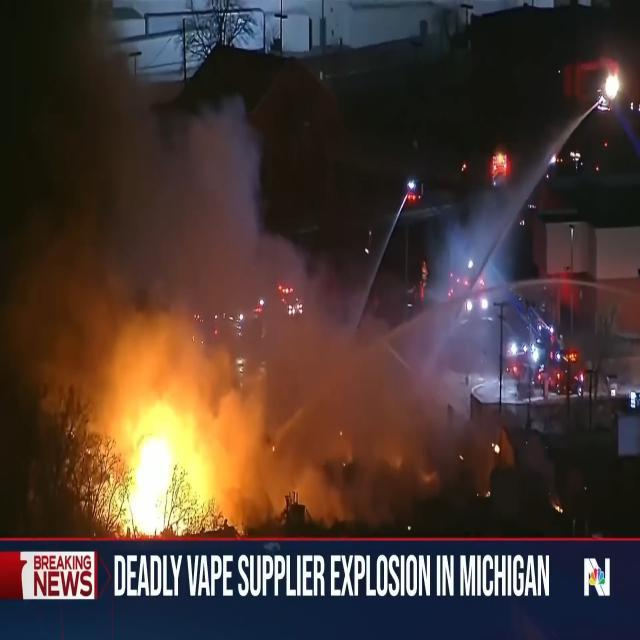fire: (31, 294, 327, 534)
